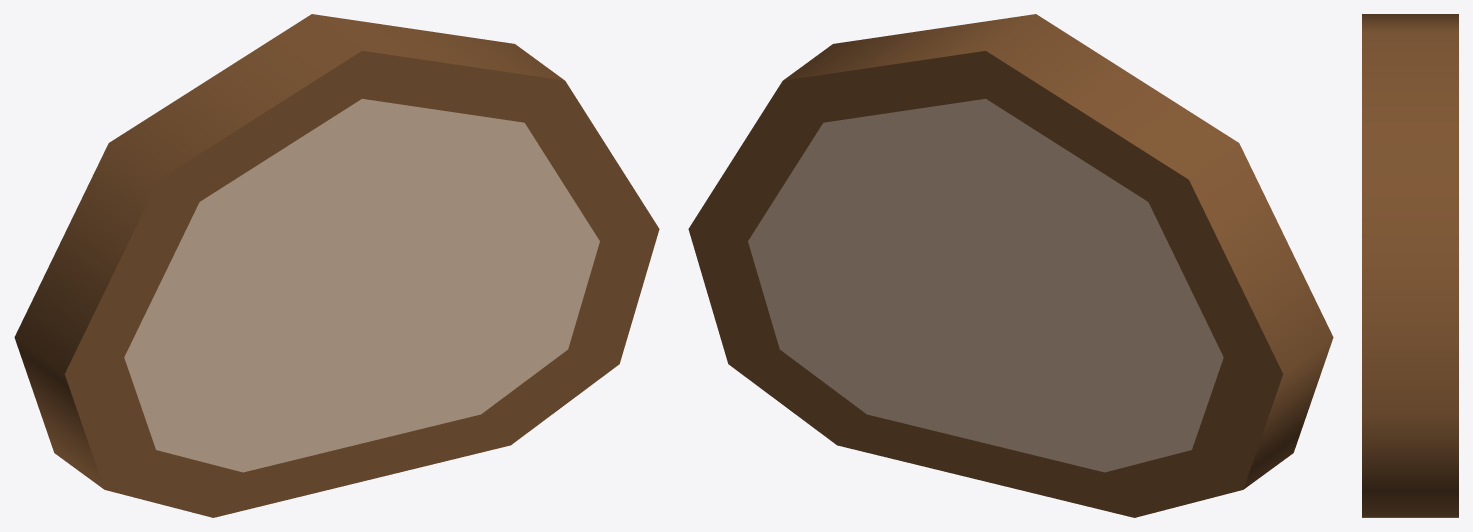
The model's file is Bread_Slice.fbx.
3 renders of one model, left to right at view 1: azimuth 30°, elevation 25°; view 2: azimuth 150°, elevation 25°; view 3: azimuth 270°, elevation 25°, orthographic. The views are drawn at different scales.
Parts seen in each view (by area): view 1: Bread_Slice; view 2: Bread_Slice; view 3: Bread_Slice.
Boxes of the visible parts, x1,y1,x2,y2 form: Bread_Slice: [14, 14, 659, 517]; Bread_Slice: [688, 14, 1333, 517]; Bread_Slice: [1362, 14, 1458, 517].
Bounding box in the file's own units: 0.8638 × 0.5979 × 0.1264.
